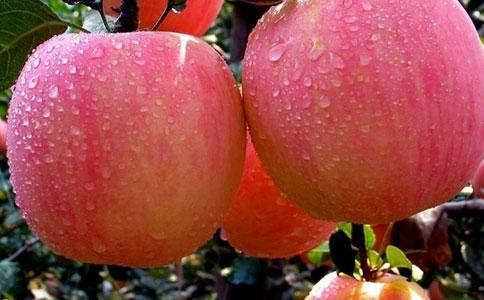apple: (7, 32, 248, 269), (248, 1, 484, 226)
